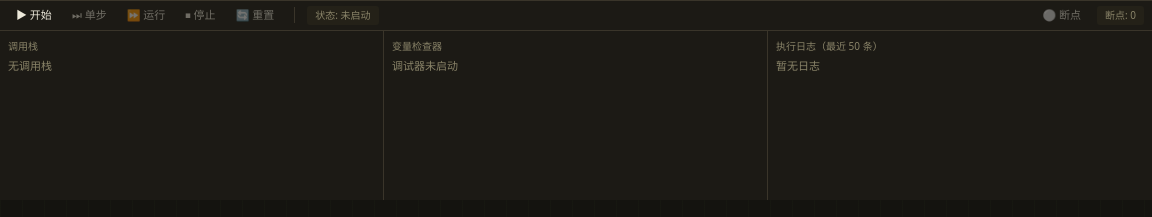
Scenario: DebuggerPanel › 2. 点击"开始"按钮触发 start，进入第一个 event 节点
The image size is (1152, 217).
Click the button with aria-label "开始调试": [34, 15] box [8, 5, 60, 26]
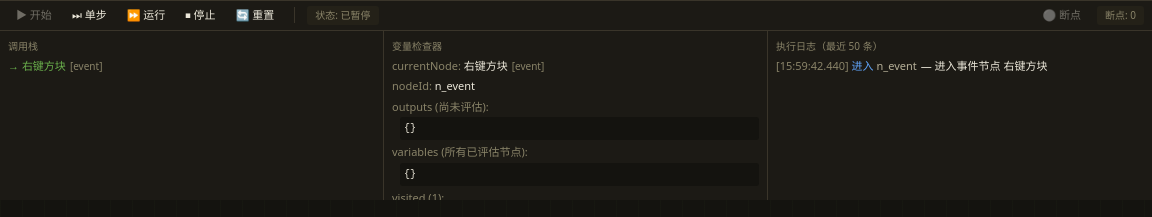
Check: the text "n_event" next to "nodeId:" is shown, box [435, 78, 475, 93]
Check: the message named "调试器状态：已暂停" is shown, box [307, 6, 378, 25]
Check: the list item "→ 右键方块[event]" is shown, box [8, 58, 102, 72]
